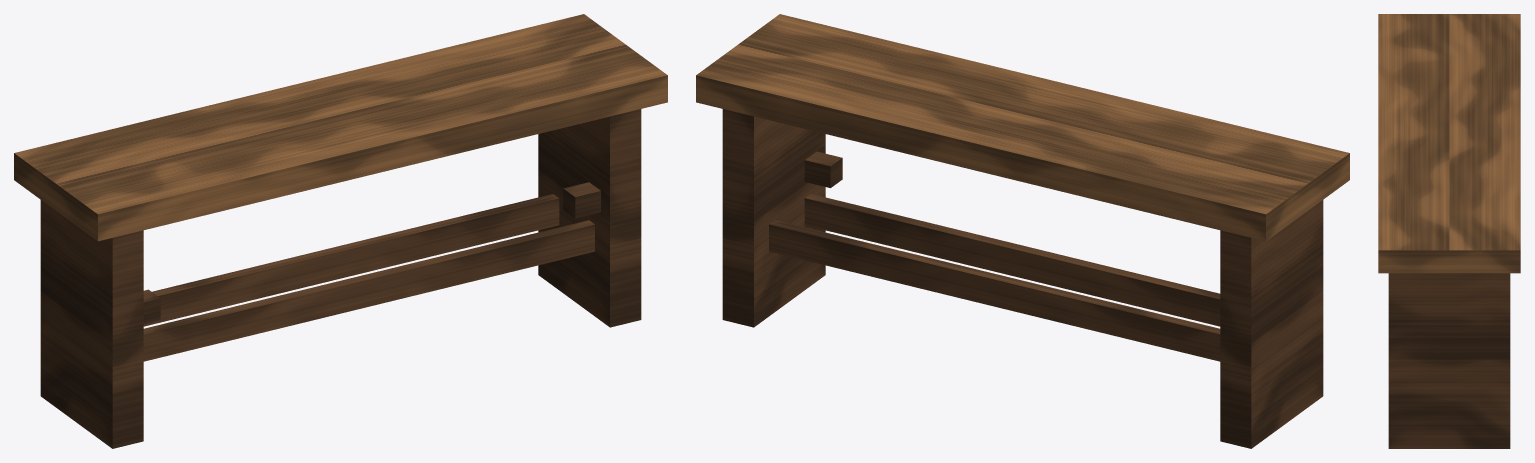
Rendered from bench.fbx.
The picture shows the model from 3 angles, left to right: view 1: azimuth 30°, elevation 25°; view 2: azimuth 150°, elevation 25°; view 3: azimuth 270°, elevation 25°; orthographic projection. The views are drawn at different scales.
Parts seen in each view (by area): view 1: bench; view 2: bench; view 3: bench.
Boxes of the visible parts, box(x1,y1,x2,y2) form: bench: box(14, 14, 667, 448); bench: box(696, 14, 1349, 448); bench: box(1378, 14, 1520, 448).
Size of the model in its own units: 110 by 45 by 28.
